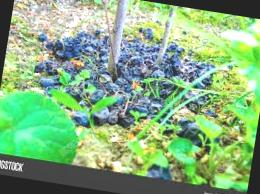Grape Rotten: (23, 14, 225, 148)
